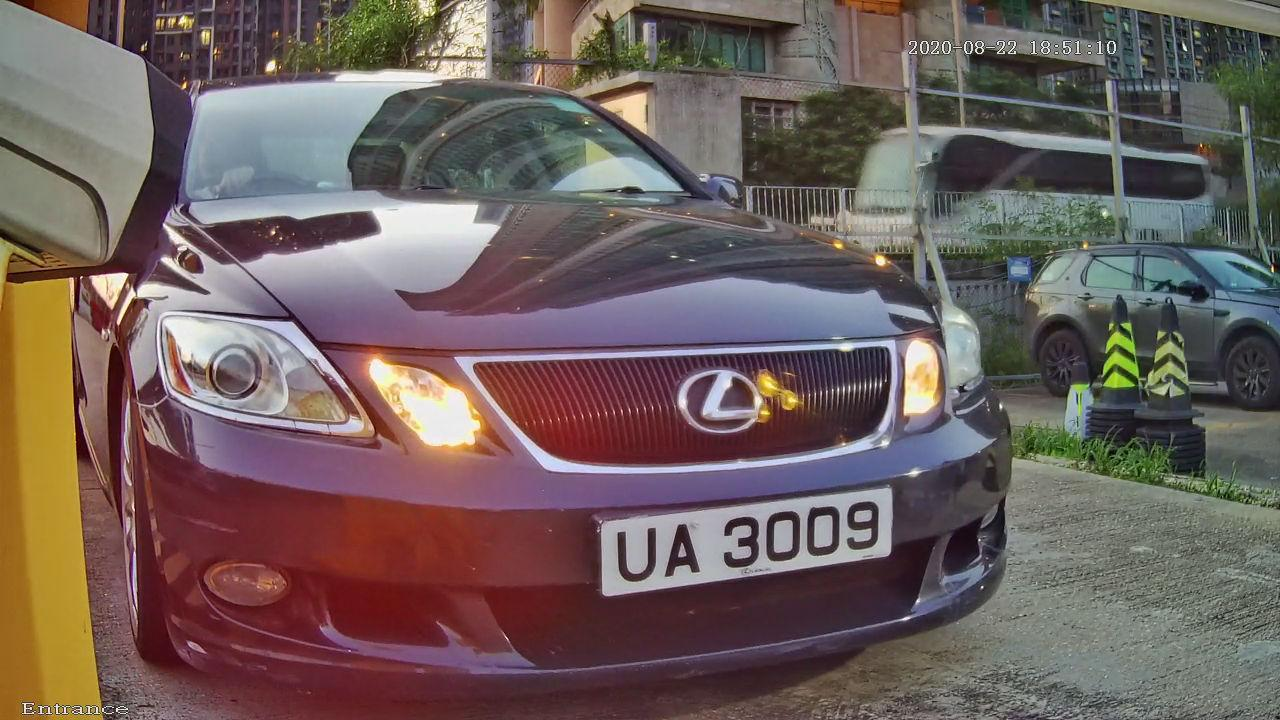Car: (17, 1, 1068, 720)
License Plate: (544, 462, 962, 629)
